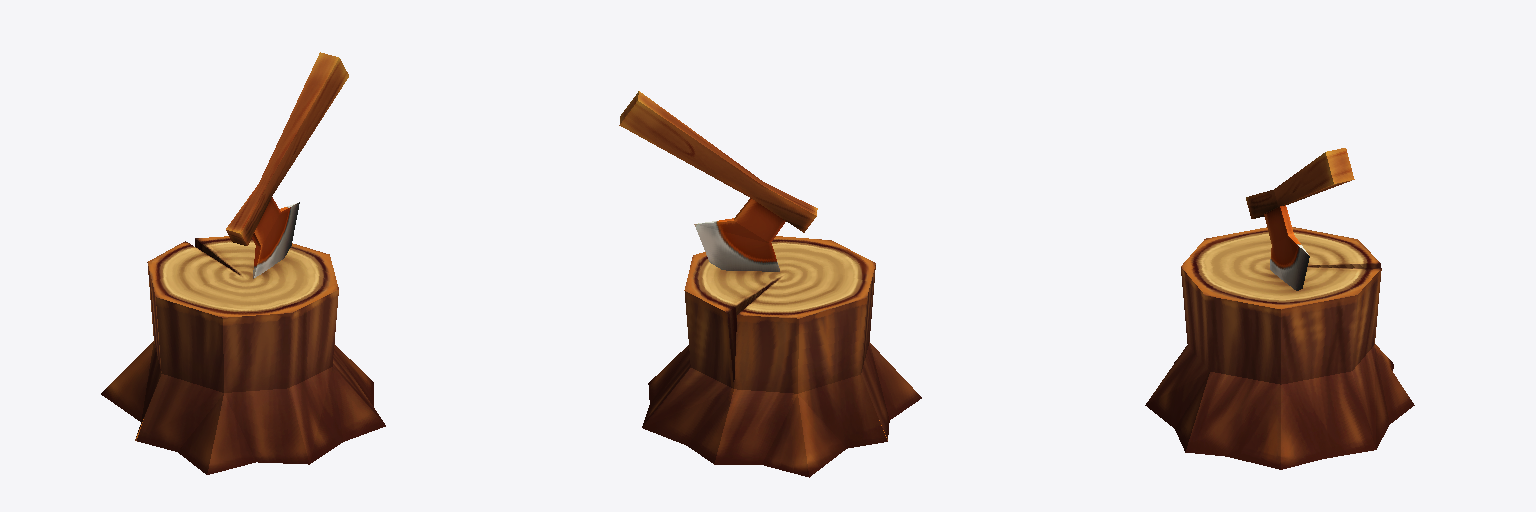
3 renders of one model, left to right at view 1: azimuth 30°, elevation 25°; view 2: azimuth 150°, elevation 25°; view 3: azimuth 270°, elevation 25°, orthographic.
Visible parts, largest first — view 1: map:stump:farm_stump_farm_stump_mesh; view 2: map:stump:farm_stump_farm_stump_mesh; view 3: map:stump:farm_stump_farm_stump_mesh.
Boxes of the visible parts, box(x1,y1,x2,y2) form: map:stump:farm_stump_farm_stump_mesh: box(101, 52, 385, 474); map:stump:farm_stump_farm_stump_mesh: box(619, 91, 921, 477); map:stump:farm_stump_farm_stump_mesh: box(1145, 148, 1414, 469).
Bounding box in the file's own units: 7.59 × 9.39 × 7.36.
Materials: 1 (1 with a texture image).